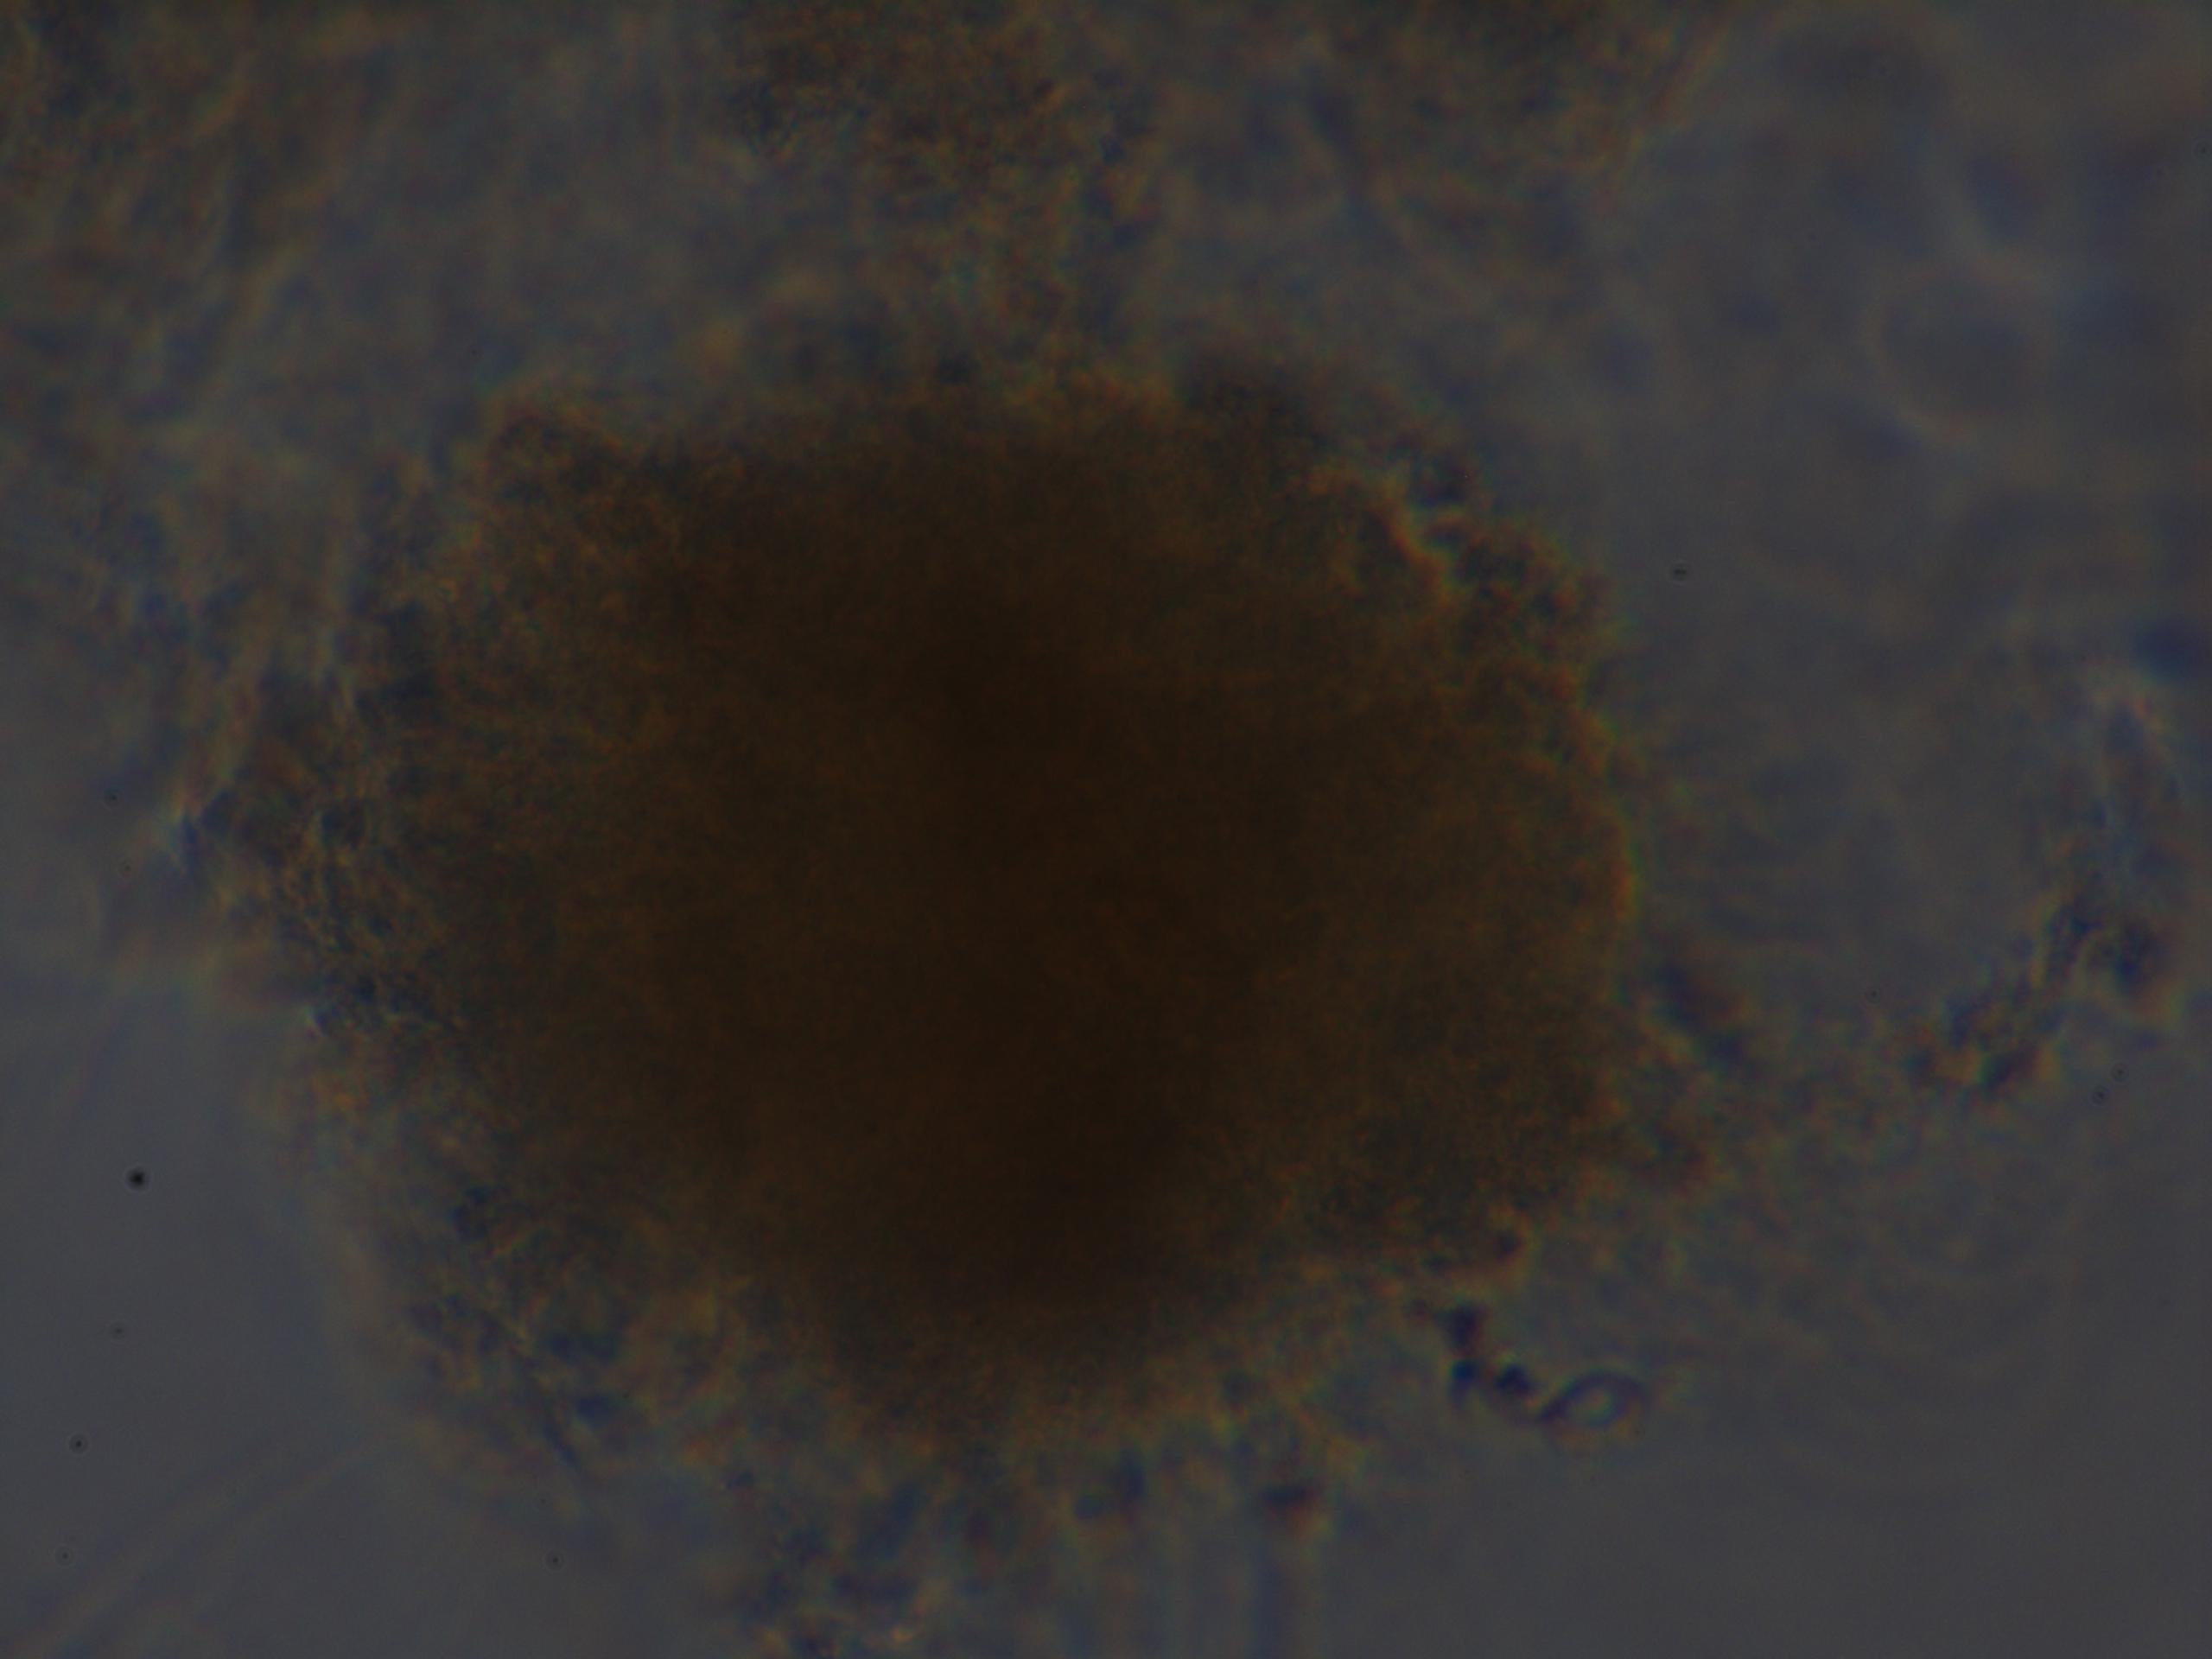spherical_floc: (275, 324, 1667, 1483)
